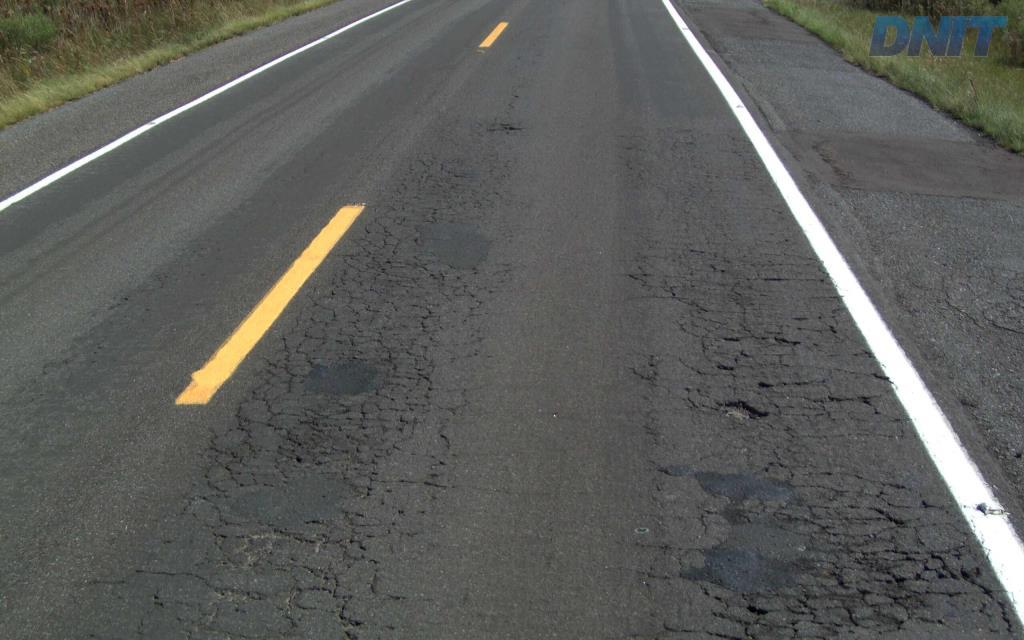crack: (852, 550, 967, 619), (783, 582, 905, 636), (276, 403, 345, 466), (884, 537, 960, 582), (324, 353, 393, 397), (733, 591, 789, 639), (208, 439, 247, 487), (676, 557, 730, 590), (234, 401, 262, 459)
pothole: (710, 390, 771, 430)
